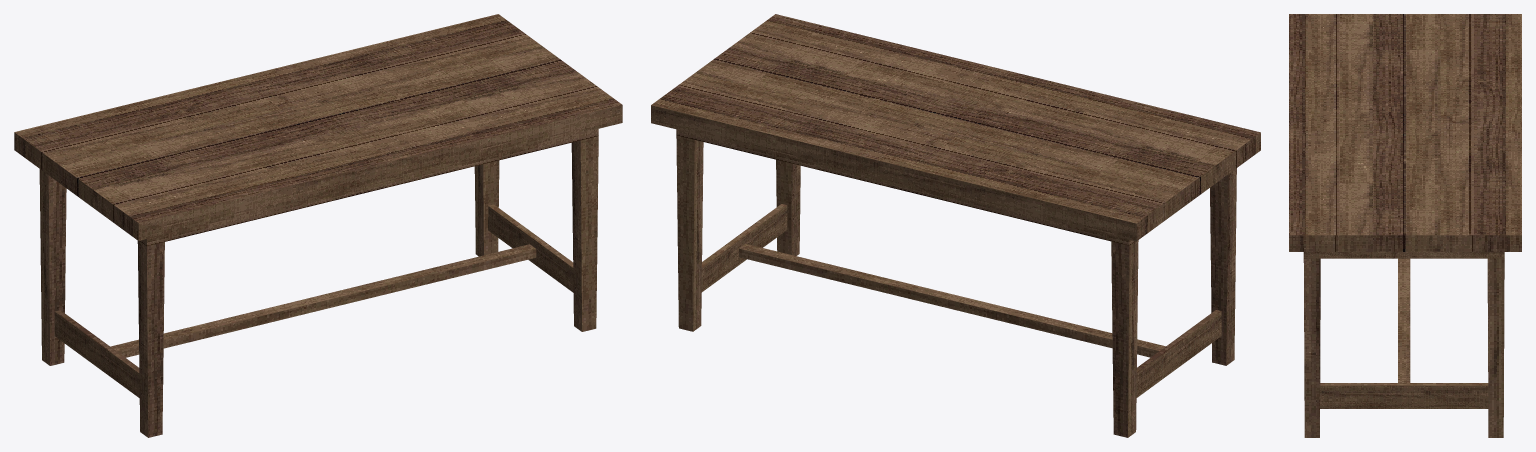
The model's file is desk_table.glb.
3 renders of one model, left to right at view 1: azimuth 30°, elevation 25°; view 2: azimuth 150°, elevation 25°; view 3: azimuth 270°, elevation 25°, orthographic. The views are drawn at different scales.
Visible parts, largest first — view 1: desk_table; view 2: desk_table; view 3: desk_table.
Part boxes in pixels (left/top/right/bottom): desk_table: left=14, top=14, right=622, bottom=437; desk_table: left=651, top=14, right=1260, bottom=437; desk_table: left=1289, top=14, right=1521, bottom=437.
Bounding box in the file's own units: 1.62 × 0.7205 × 0.72.
1 material, 1 textured.
